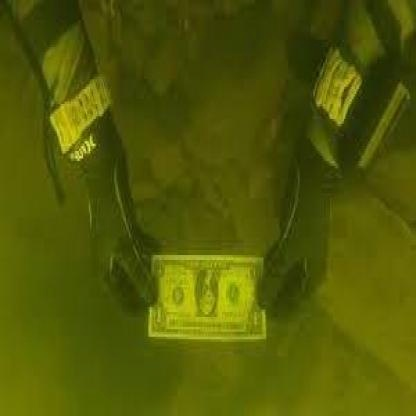misc: (148, 253, 268, 344)
